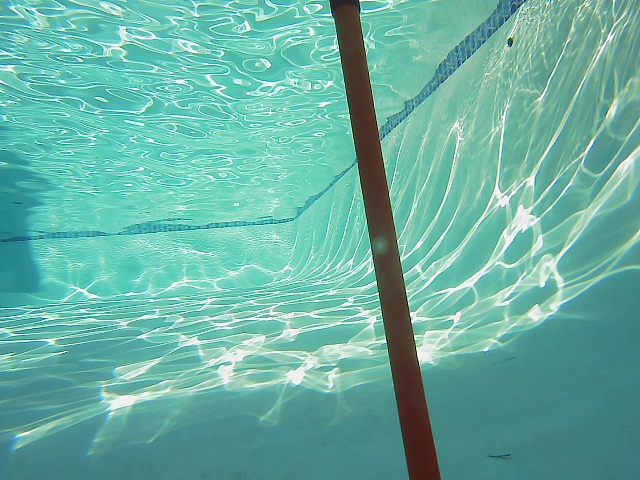Gate: (1, 4, 466, 478)
